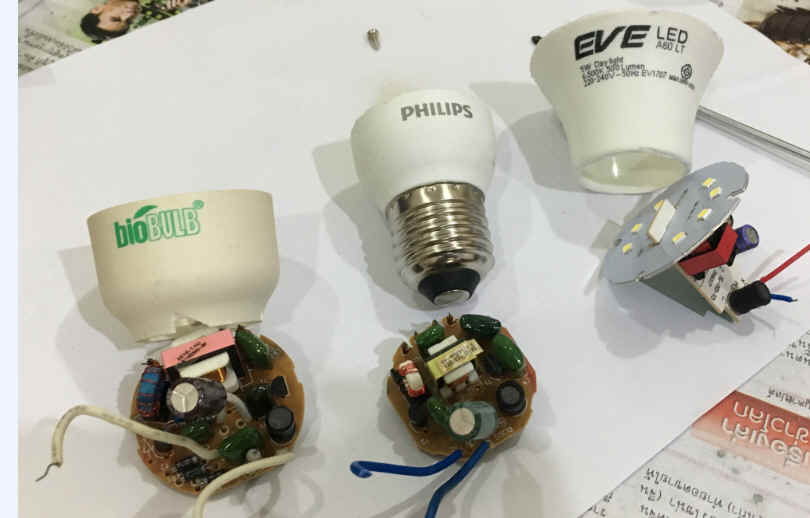Light_bulb: (347, 60, 515, 320)
